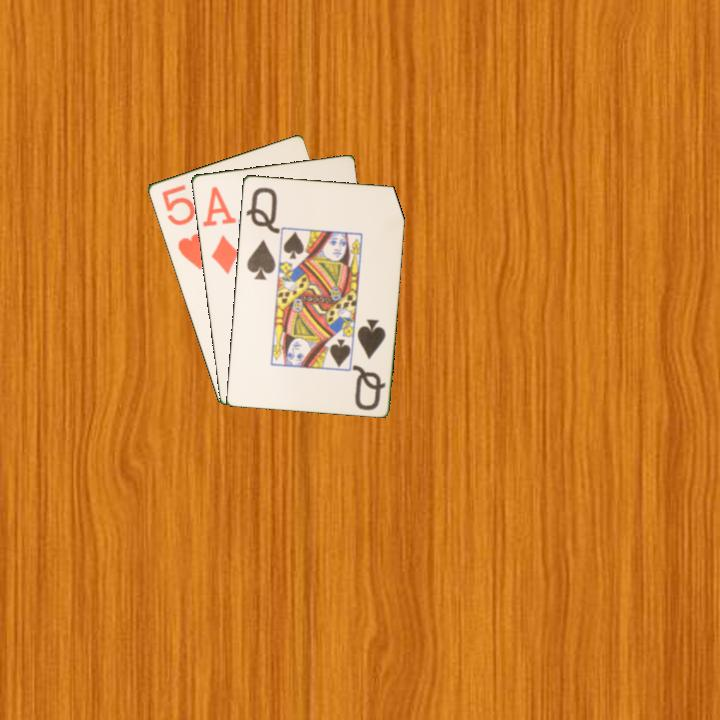5h: (158, 180, 209, 273)
Ad: (199, 183, 242, 277)
Qs: (242, 183, 281, 283), (350, 315, 388, 413)
